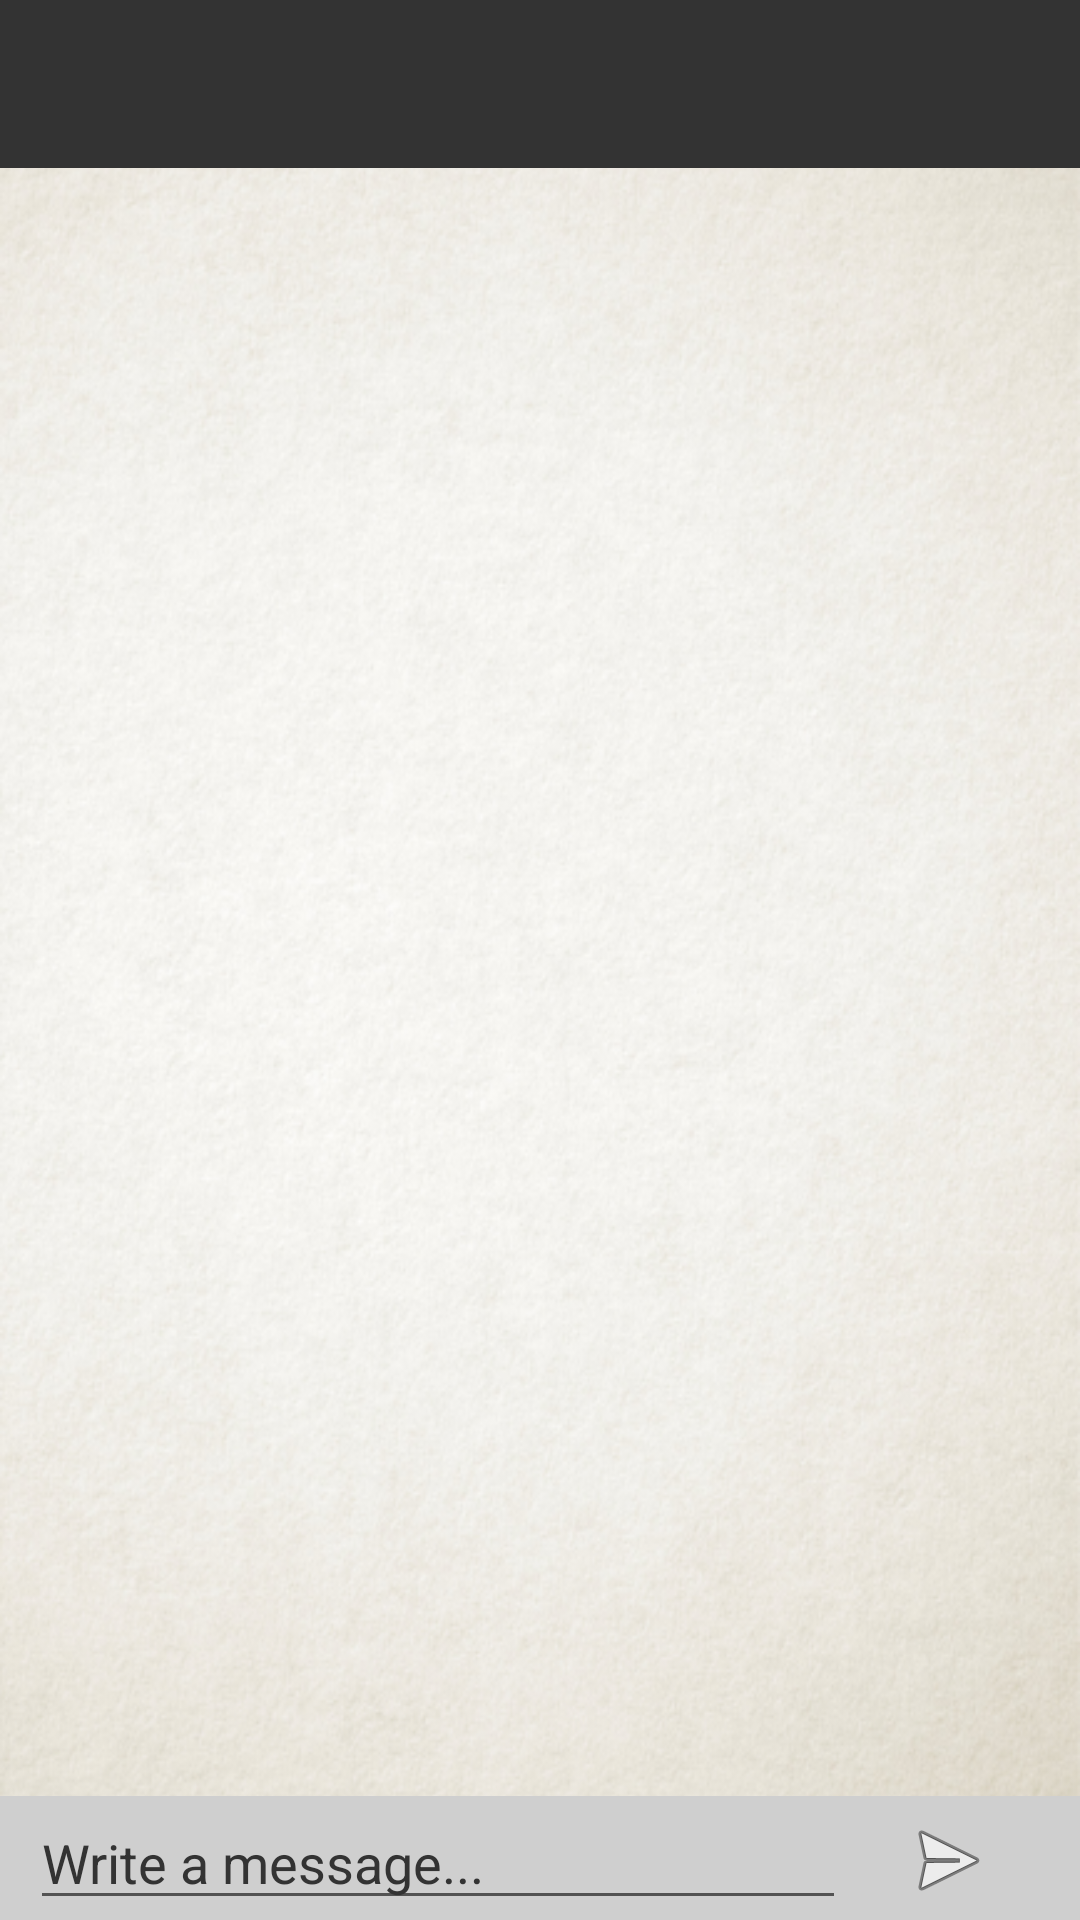

Where to tap for icons on this 1080px x 1920px app screen, as point (x, y):
send: point (949, 1860)
